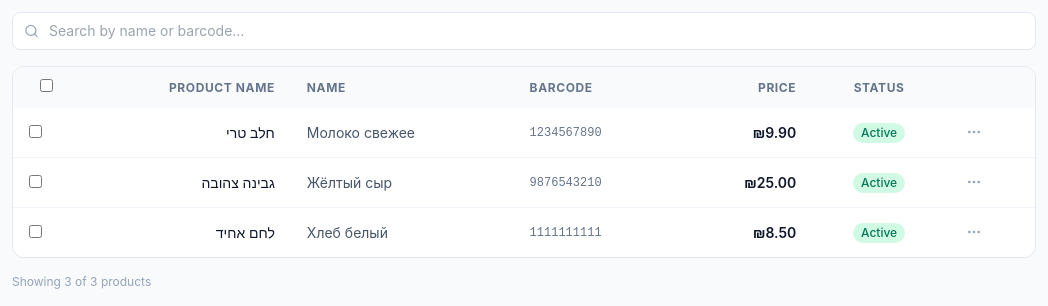
ProductsTable — search filtering › filters by barcode after debounce
Step 1. Type "9876543210" into the field with placeholder "Search by name or barcode…" → (524, 31), box [12,12,1036,50]
Wait 200 ms
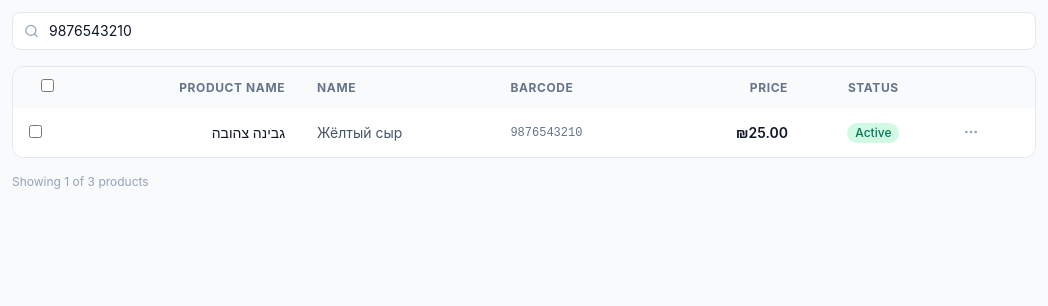
Expected: the text "גבינה צהובה" is shown, [74,108,301,157]
Expected: the text "חלב טרי" is gone
